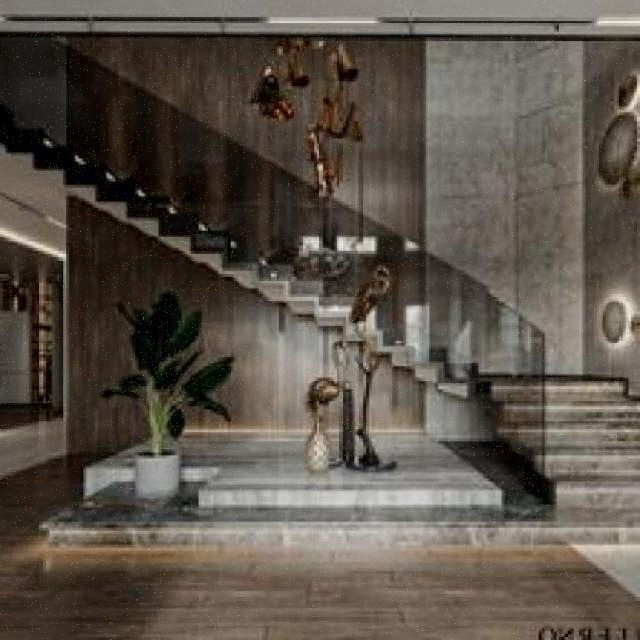stair: (485, 311, 640, 545)
